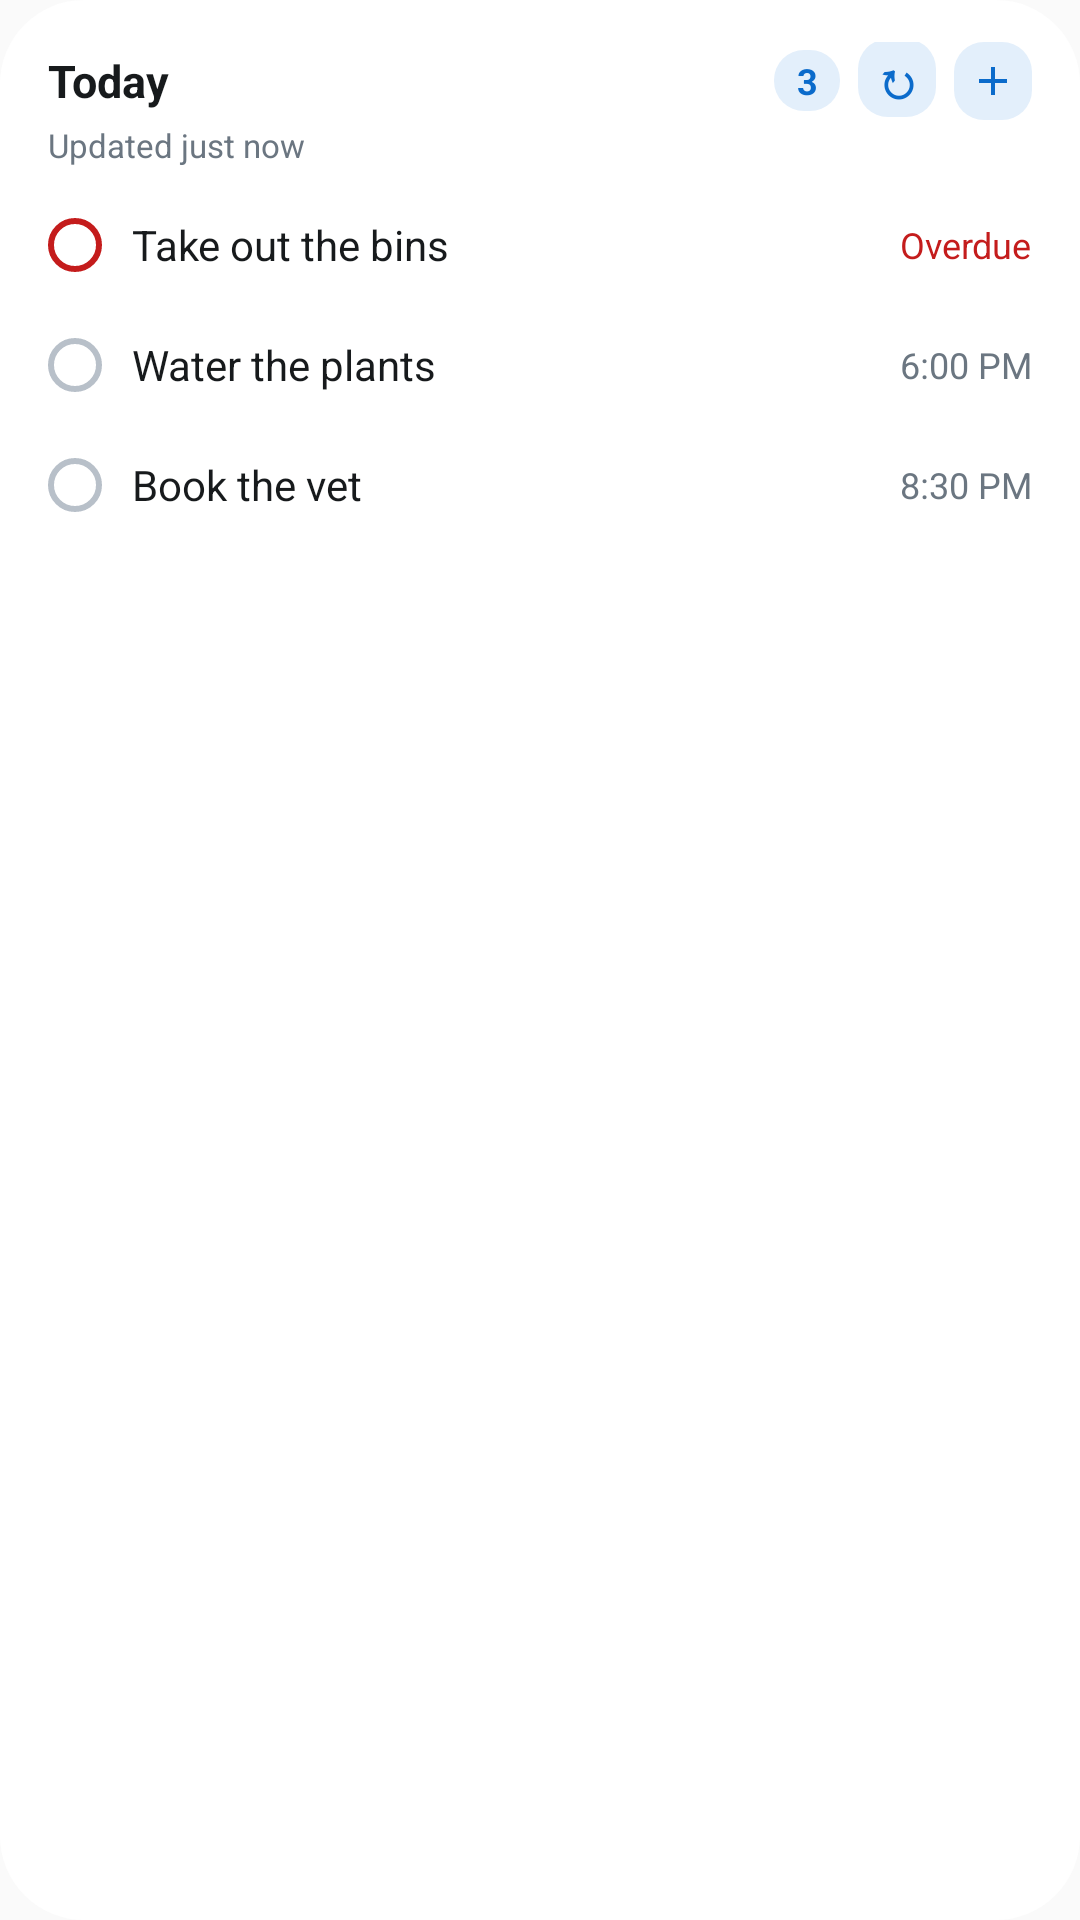

Screen size 1080x1920. Icon name, then its box in pixels as (left=x1, top=y1, right=x2, bottom=y2):
Add task: (left=954, top=42, right=1032, bottom=120)
widget ring: (left=48, top=218, right=102, bottom=272), (left=48, top=338, right=102, bottom=392), (left=48, top=458, right=102, bottom=512)
